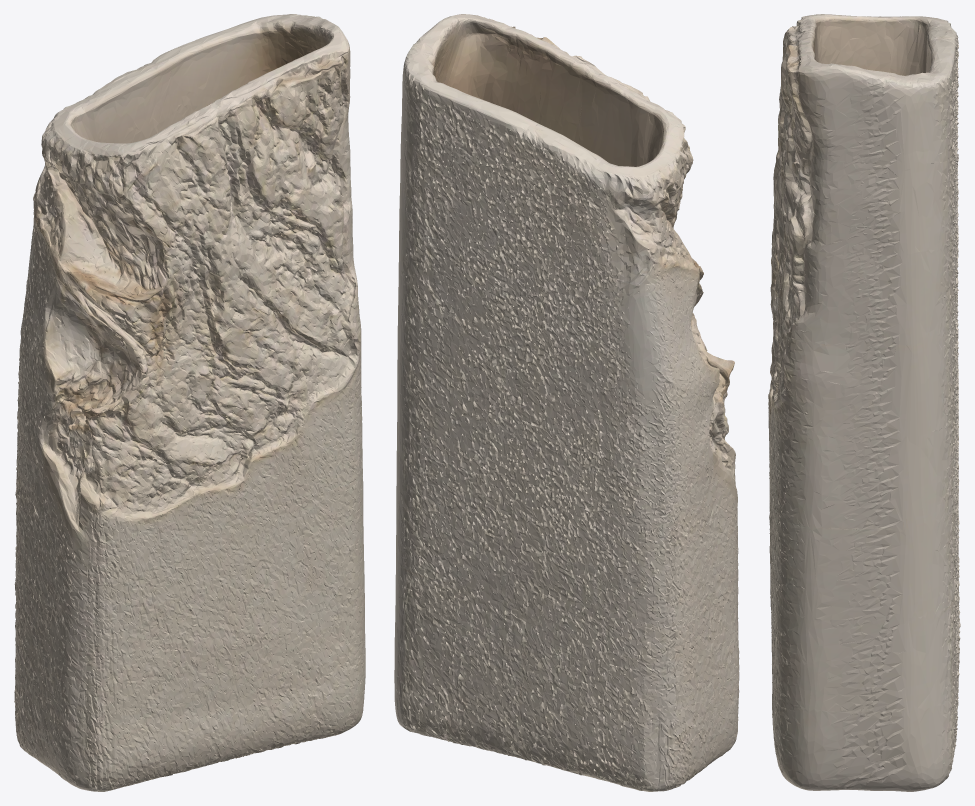
The picture shows the model from 3 angles, left to right: view 1: azimuth 30°, elevation 25°; view 2: azimuth 150°, elevation 25°; view 3: azimuth 270°, elevation 25°; orthographic projection. The views are drawn at different scales.
Parts seen in each view (by area): view 1: geometry_0; view 2: geometry_0; view 3: geometry_0.
Part boxes in pixels (left/top/right/bottom): geometry_0: left=14, top=14, right=365, bottom=791; geometry_0: left=394, top=14, right=739, bottom=791; geometry_0: left=768, top=14, right=960, bottom=791.
Bounding box in the file's own units: 0.4582 × 0.9982 × 0.2393.
Materials: 1 (1 with a texture image).
